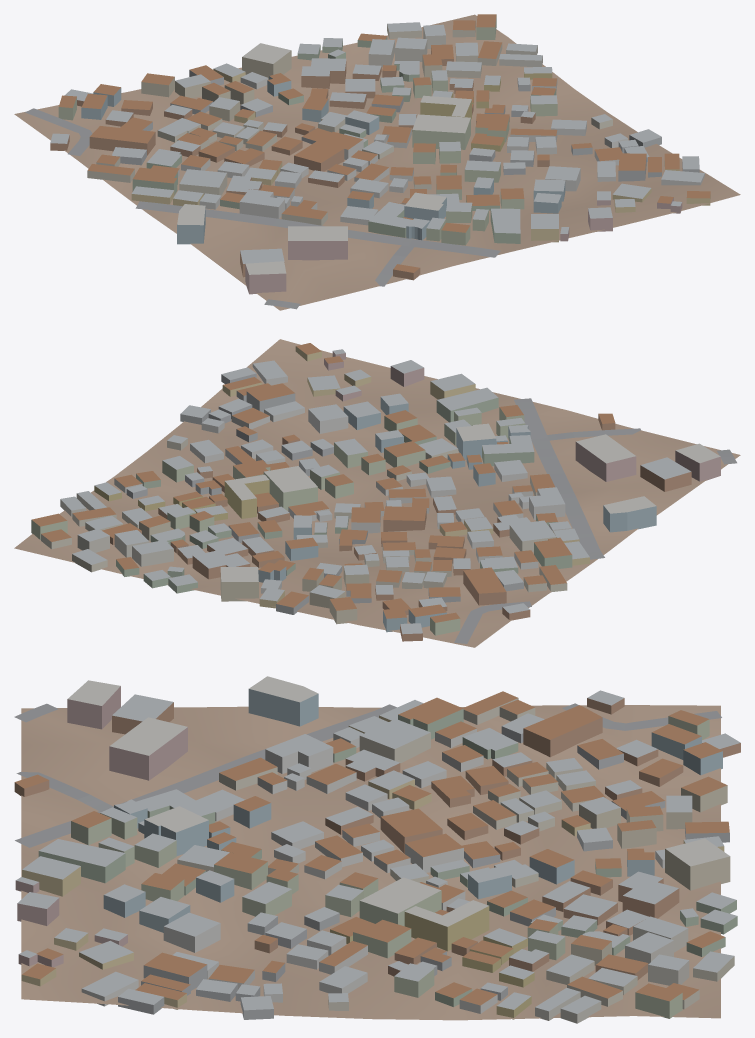
3 renders of one model, top to bottom at view 1: azimuth 30°, elevation 25°; view 2: azimuth 150°, elevation 25°; view 3: azimuth 270°, elevation 25°, orthographic. The views are drawn at different scales.
Visible parts, largest first — view 1: Lo; view 2: Lo; view 3: Lo.
Boxes of the visible parts, x1,y1,x2,y2 form: Lo: [14, 14, 740, 310]; Lo: [14, 339, 740, 647]; Lo: [14, 676, 740, 1023].
Bounding box in the file's own units: 266 × 17.84 × 266.
